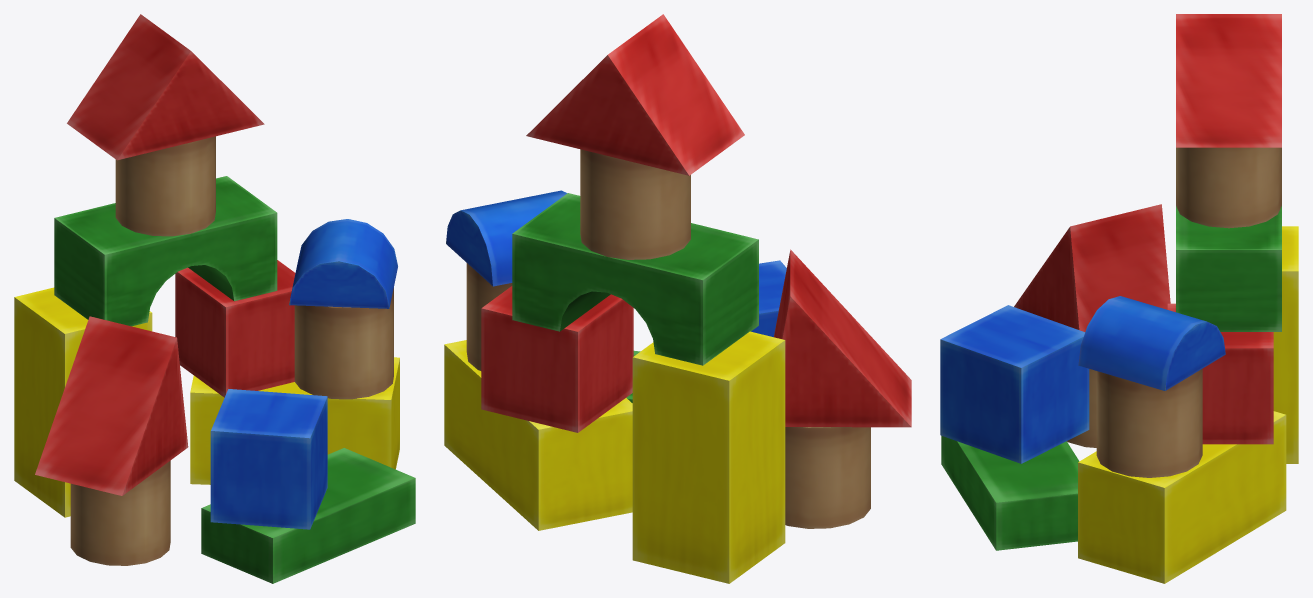
The model's file is BlueBlock_HD.fbx.
3 views of the same model, side by side, from view 1: azimuth 30°, elevation 25°; view 2: azimuth 150°, elevation 25°; view 3: azimuth 270°, elevation 25° (orthographic). The views are drawn at different scales.
Visible parts, largest first — view 1: BlueBlock; view 2: BlueBlock; view 3: BlueBlock.
Boxes of the visible parts, x1,y1,x2,y2 form: BlueBlock: [14, 14, 415, 583]; BlueBlock: [444, 14, 911, 583]; BlueBlock: [940, 14, 1298, 583].
Bounding box in the file's own units: 0.4446 × 0.4786 × 0.3338.
